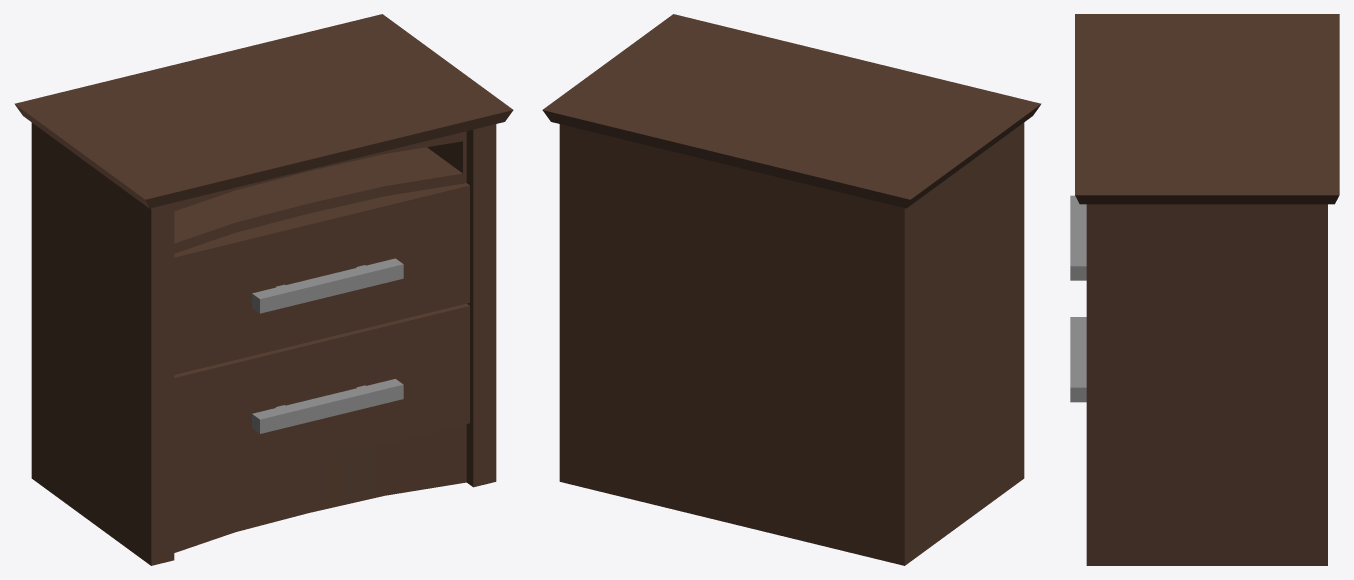
The model's file is Mesh_BuroDeNoche.fbx.
3 views of the same model, side by side, from view 1: azimuth 30°, elevation 25°; view 2: azimuth 150°, elevation 25°; view 3: azimuth 270°, elevation 25° (orthographic).
Visible parts, largest first — view 1: Mesh_BuroDeNoche; view 2: Mesh_BuroDeNoche; view 3: Mesh_BuroDeNoche.
Part boxes in pixels (x1,y1,x2,y2): Mesh_BuroDeNoche: (14, 14, 513, 565); Mesh_BuroDeNoche: (542, 14, 1041, 565); Mesh_BuroDeNoche: (1070, 14, 1339, 565).
Size of the model in its own units: 64 by 62 by 40.16.
